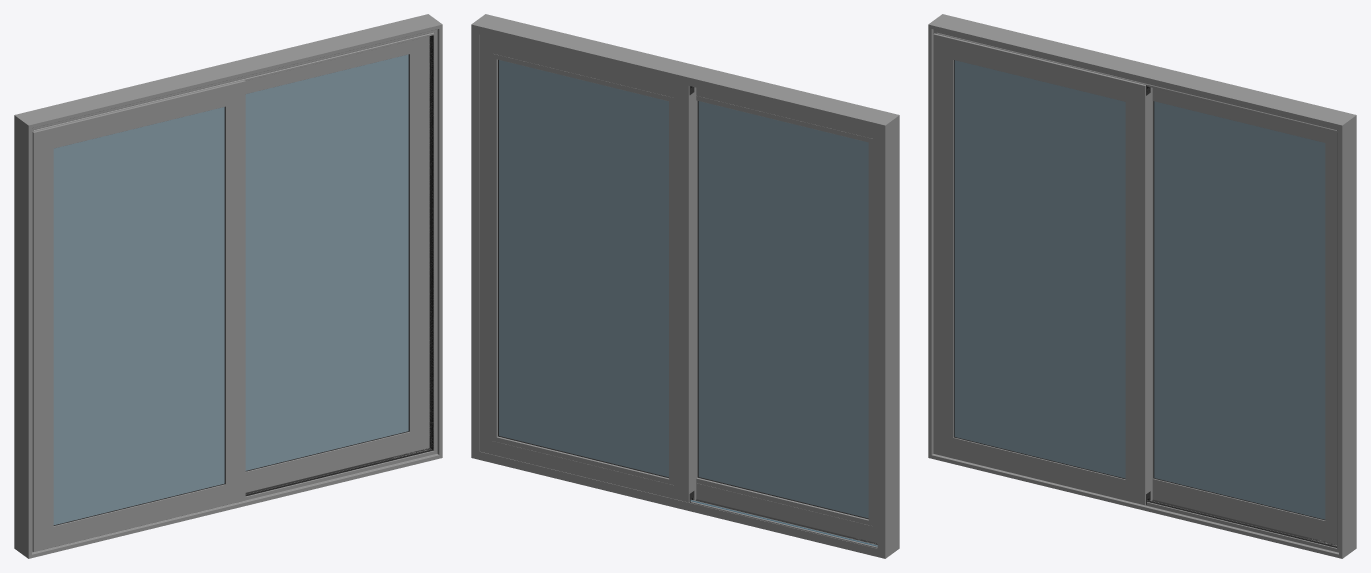
The model's file is sliding_window.dae.
The picture shows the model from 3 angles, left to right: view 1: azimuth 30°, elevation 25°; view 2: azimuth 150°, elevation 25°; view 3: azimuth 330°, elevation 25°; orthographic projection.
Parts seen in each view (by area): view 1: glass_fix, glass_slide, mullion_right_slide (×2), mullion_right_fix (×2), transom_top_frame, mullion_left_fix, mullion_left_frame, mullion_right_frame (×3), transom_top_fix, transom_bottom_fix, transom_bottom_slide, transom_bottom_frame (+11 smaller); view 2: glass_fix, glass_slide, mullion_left_slide, mullion_left_frame, transom_top_frame, mullion_right_slide, mullion_left_fix, transom_bottom_frame, mullion_right_frame, transom_bottom_fix, transom_top_slide, transom_bottom_slide (×2) (+13 smaller); view 3: glass_slide, glass_fix, mullion_right_fix, transom_top_frame, mullion_left_fix, mullion_right_frame, mullion_right_slide, transom_top_fix, transom_bottom_slide, transom_bottom_fix, transom_bottom_frame, mullion_left_frame (+12 smaller).
Part boxes in pixels (bbox=[...]): glass_fix: bbox=[53, 107, 224, 525]; glass_slide: bbox=[245, 54, 408, 470]; mullion_right_slide (×2): bbox=[408, 72, 429, 409]; mullion_right_fix (×2): bbox=[224, 124, 245, 461]; transom_top_frame: bbox=[56, 24, 401, 122]; mullion_left_fix: bbox=[32, 171, 53, 508]; mullion_left_frame: bbox=[14, 159, 32, 515]; mullion_right_frame (×3): bbox=[429, 63, 442, 415]; transom_top_fix: bbox=[74, 90, 204, 143]; transom_bottom_fix: bbox=[75, 489, 204, 541]; transom_bottom_slide: bbox=[259, 437, 388, 489]; transom_bottom_frame: bbox=[68, 459, 401, 548]; glass_fix: bbox=[698, 101, 868, 518]; glass_slide: bbox=[499, 60, 668, 477]; mullion_left_slide: bbox=[669, 124, 696, 461]; mullion_left_frame: bbox=[877, 159, 899, 515]; transom_top_frame: bbox=[512, 24, 857, 123]; mullion_right_slide: bbox=[479, 77, 497, 414]; mullion_left_fix: bbox=[868, 165, 877, 499]; transom_bottom_frame: bbox=[512, 459, 846, 548]; mullion_right_frame: bbox=[471, 68, 479, 416]; transom_bottom_fix: bbox=[718, 483, 847, 535]; transom_top_slide: bbox=[518, 44, 647, 95]; transom_bottom_slide (×2): bbox=[518, 443, 647, 492]; glass_slide: bbox=[1154, 101, 1325, 519]; glass_fix: bbox=[954, 60, 1125, 478]; mullion_right_fix: bbox=[1125, 124, 1152, 461]; transom_top_frame: bbox=[969, 24, 1314, 124]; mullion_left_fix: bbox=[933, 77, 953, 414]; mullion_right_frame: bbox=[1337, 159, 1356, 515]; mullion_right_slide: bbox=[1325, 165, 1336, 501]; transom_top_fix: bbox=[975, 43, 1104, 96]; transom_bottom_slide: bbox=[1174, 484, 1303, 536]; transom_bottom_fix: bbox=[975, 442, 1103, 495]; transom_bottom_frame: bbox=[969, 463, 1302, 548]; mullion_left_frame: bbox=[928, 67, 933, 415].
Bounding box in the file's own units: 78.74 × 4.72 × 78.74.
